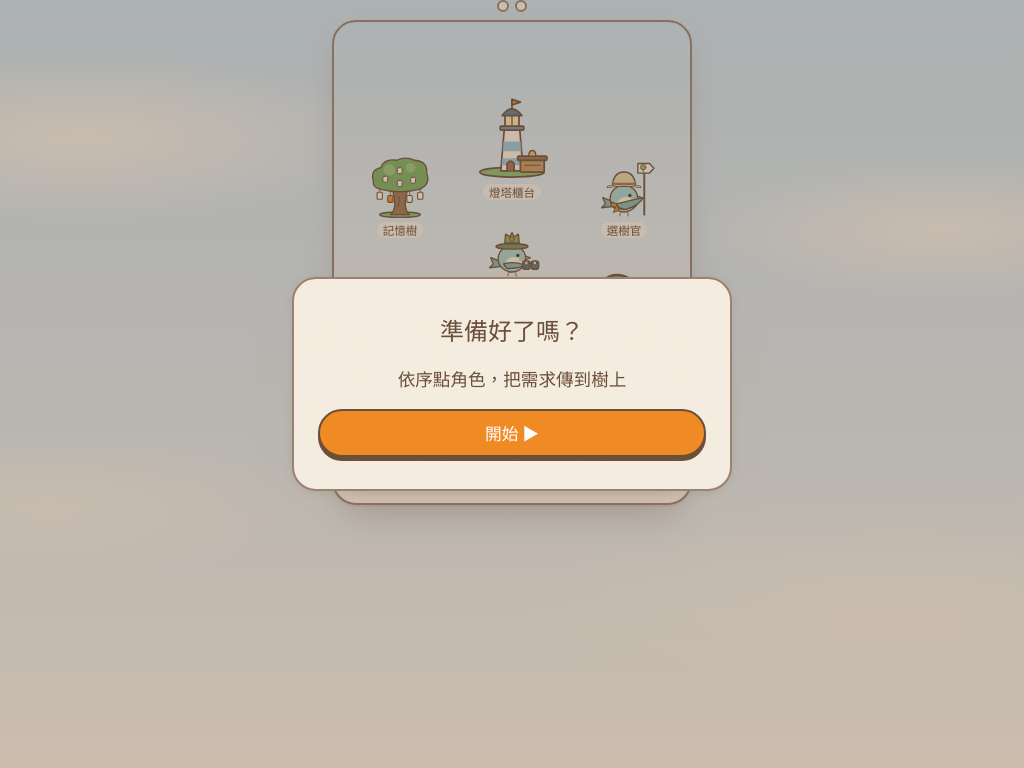
Scenario: Day04Game › 跳過櫃台直接找選樹官會被擋下並說明原因
Click the button with test id "shell-start" at coordinates (512, 433), box [318,409,706,457]
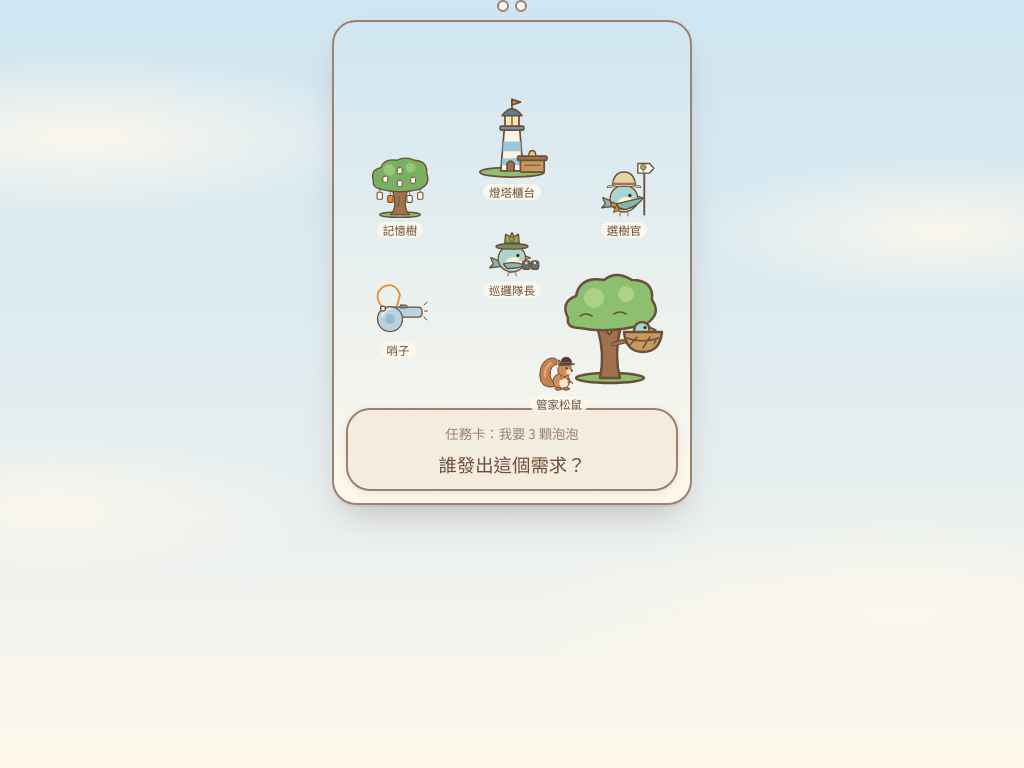
Click the button "哨子" at coordinates (398, 319), box [368,280,428,358]
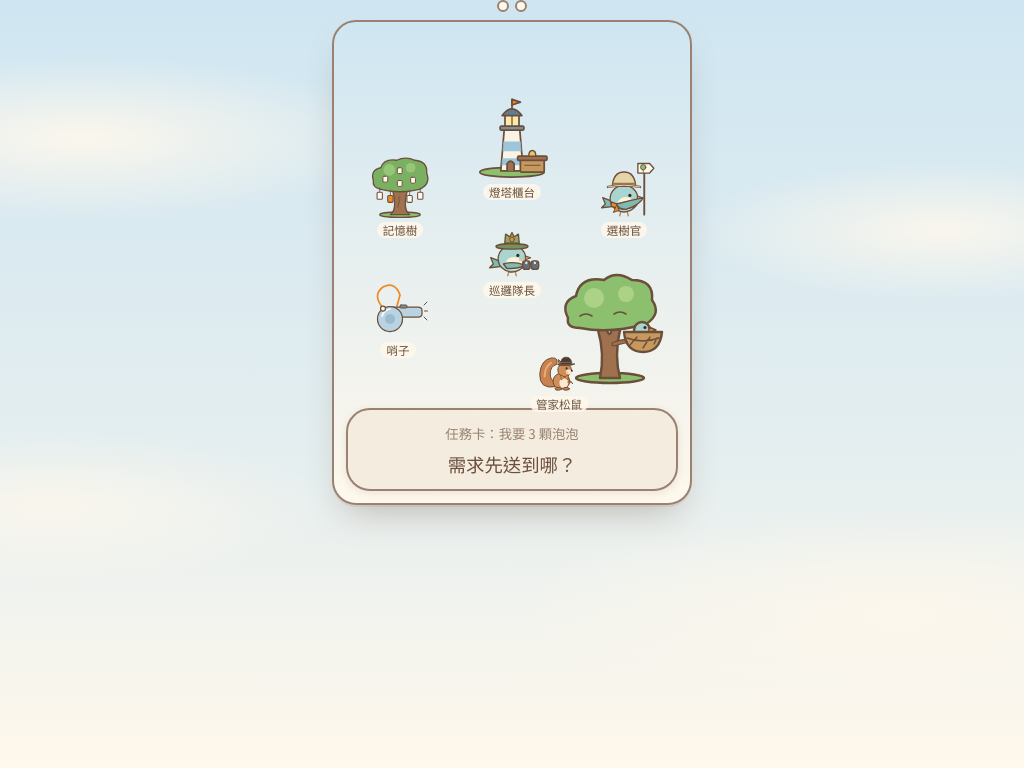
Click the button "選樹官" at coordinates (624, 197), box [592,156,656,238]
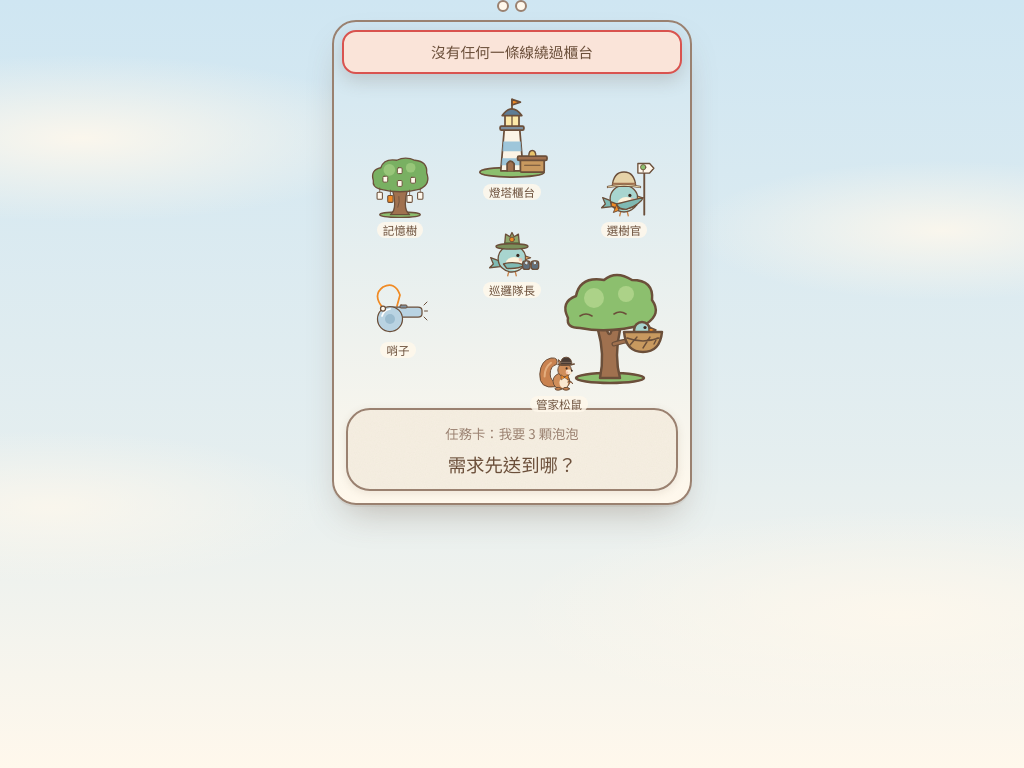
Result: the message "沒有任何一條線繞過櫃台" is shown at [342,30,682,74]
Click the button "記憶樹" at coordinates (400, 197), box [368,156,432,238]
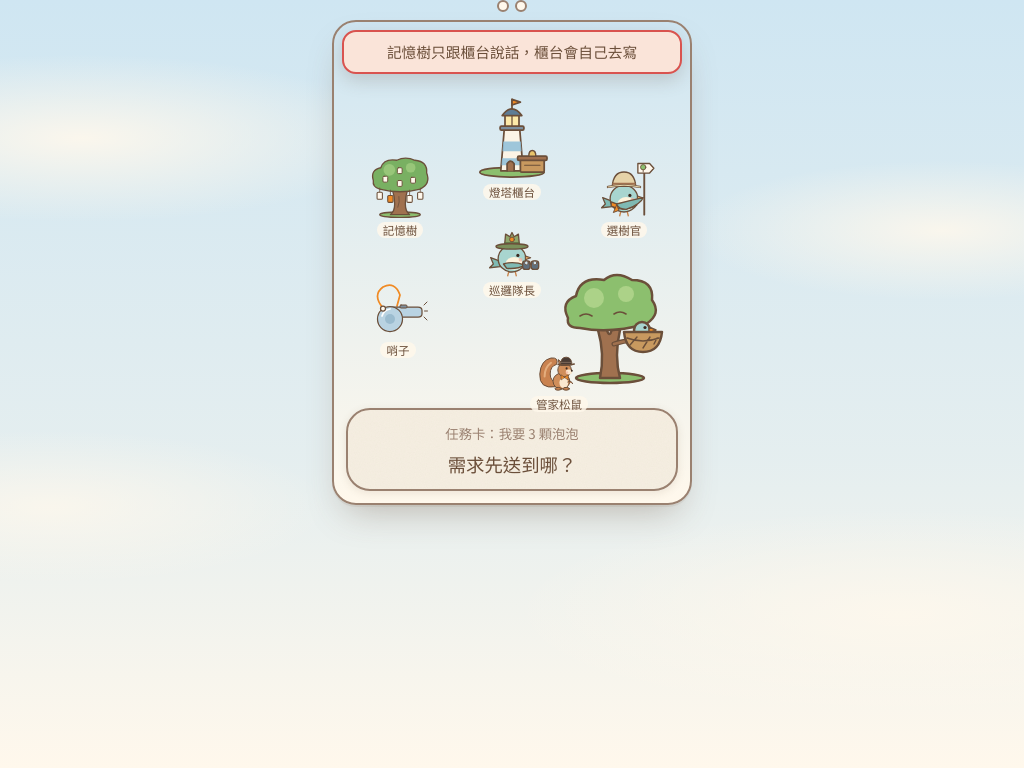
Result: the message "記憶樹只跟櫃台說話，櫃台會自己去寫" is shown at [342,30,682,74]
